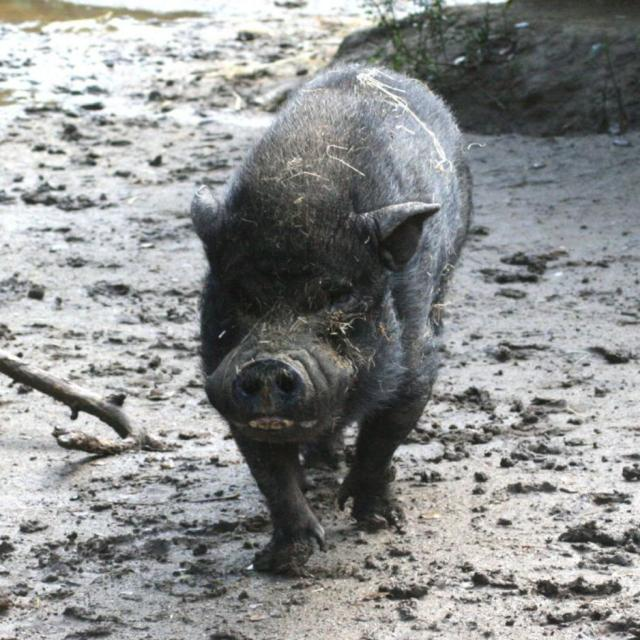Pig: (189, 59, 475, 575)
